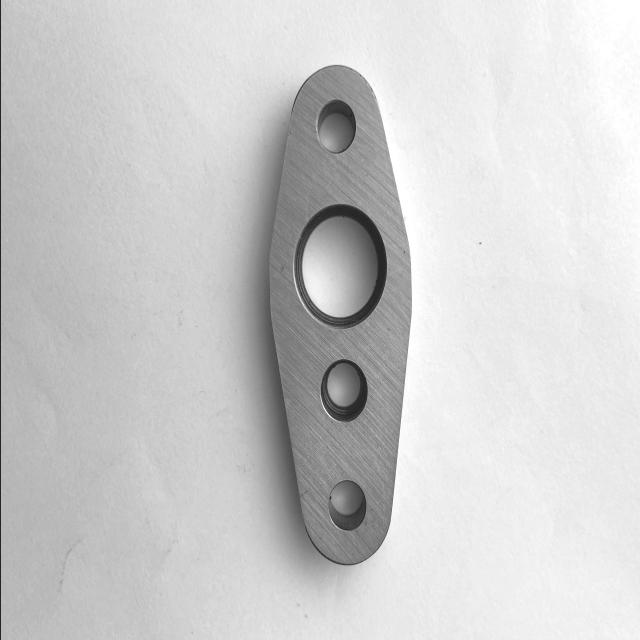chap: (288, 128, 294, 140), (400, 249, 406, 255)
lines: (299, 488, 309, 498)
